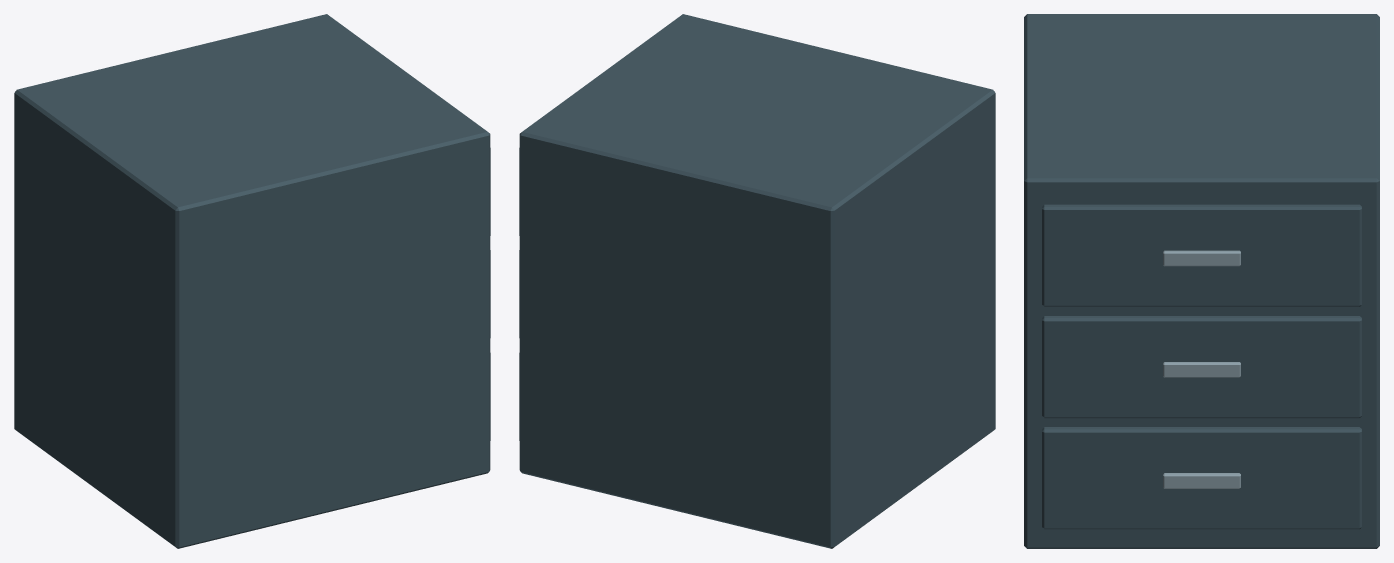
File: commode_couloir.glb
3 views of the same model, side by side, from view 1: azimuth 30°, elevation 25°; view 2: azimuth 150°, elevation 25°; view 3: azimuth 270°, elevation 25° (orthographic). The views are drawn at different scales.
Visible parts, largest first — view 1: commode_couloir; view 2: commode_couloir; view 3: commode_couloir.
Boxes of the visible parts, x1=… form: commode_couloir: x1=14, y1=14, x2=490, y2=548; commode_couloir: x1=519, y1=14, x2=995, y2=548; commode_couloir: x1=1024, y1=14, x2=1379, y2=548.
Bounding box in the file's own units: 1.15 × 1.15 × 1.
1 material, 1 textured.
